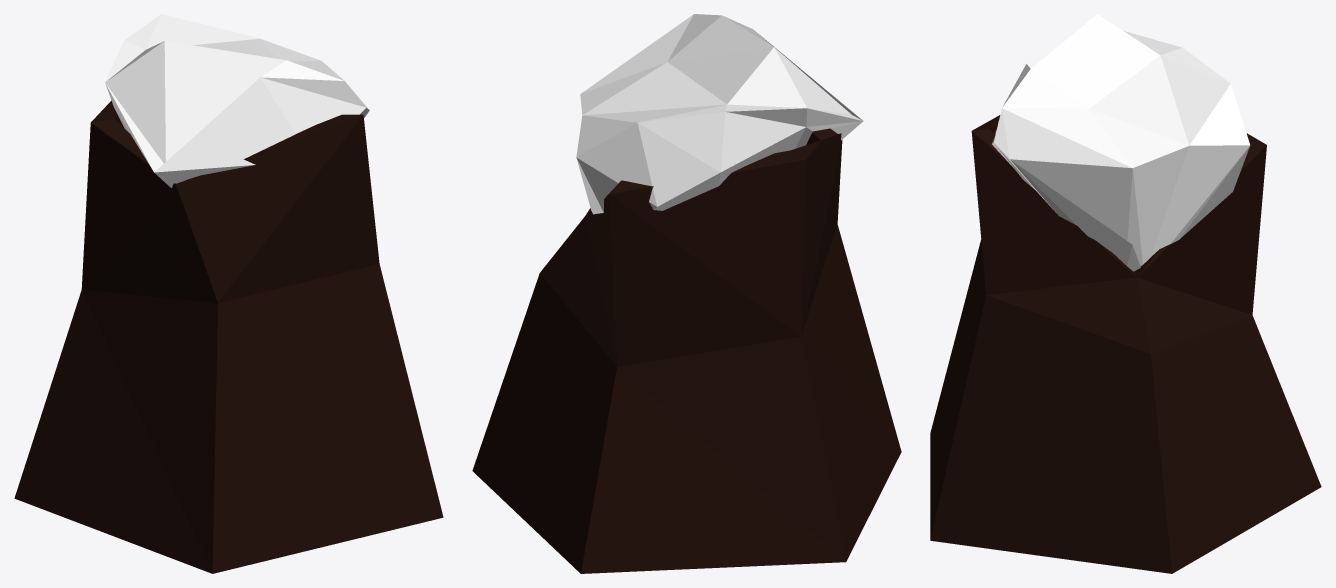
Rendered from TrunkWSnow_02.obj.
The picture shows the model from 3 angles, left to right: view 1: azimuth 30°, elevation 25°; view 2: azimuth 150°, elevation 25°; view 3: azimuth 270°, elevation 25°; orthographic projection. The views are drawn at different scales.
Parts seen in each view (by area): view 1: Trunk_02_Circle; view 2: Trunk_02_Circle; view 3: Trunk_02_Circle.
Boxes of the visible parts, box(x1,y1,x2,y2) form: Trunk_02_Circle: box(14, 14, 443, 573); Trunk_02_Circle: box(472, 14, 901, 573); Trunk_02_Circle: box(930, 14, 1321, 573).
Bounding box in the file's own units: 1.27 × 1.49 × 1.21.
